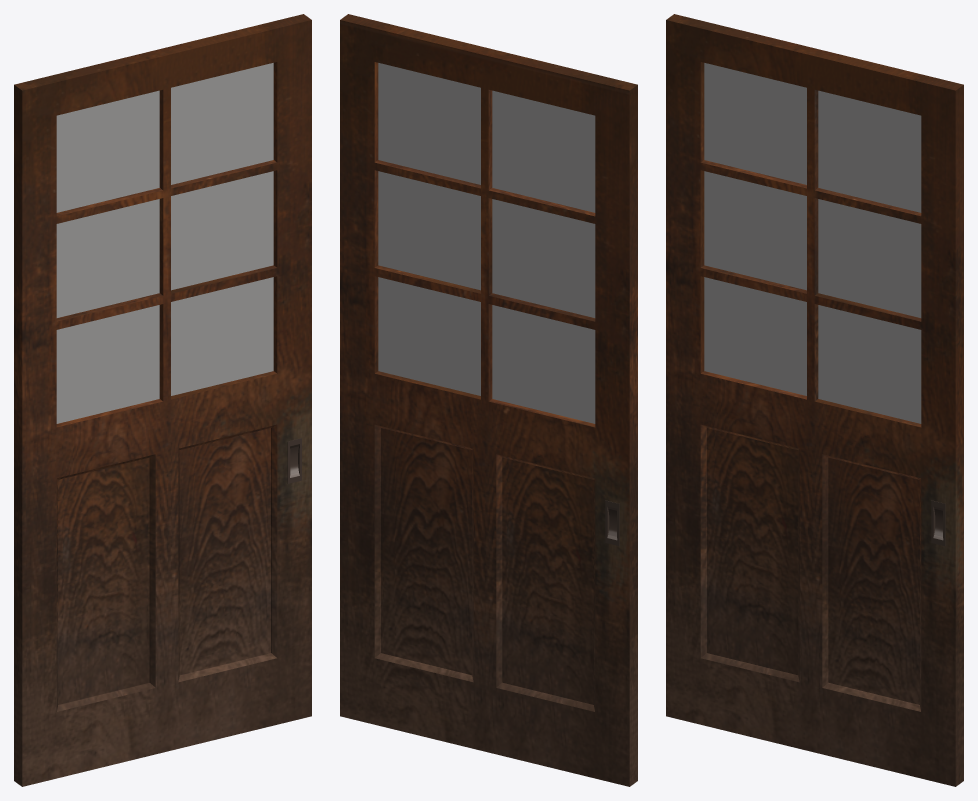
Rendered from door_03 (2).fbx.
The picture shows the model from 3 angles, left to right: view 1: azimuth 30°, elevation 25°; view 2: azimuth 150°, elevation 25°; view 3: azimuth 330°, elevation 25°; orthographic projection.
Visible parts, largest first — view 1: polySurface8, glass, totte02; view 2: polySurface8, glass, totte03; view 3: polySurface8, glass, totte02.
Boxes of the visible parts, x1,y1,x2,y2 form: polySurface8: (14,14,311,786); glass: (56,63,273,423); totte02: (287,438,301,483); polySurface8: (340,14,637,786); glass: (378,63,595,423); totte03: (605,500,619,546); polySurface8: (666,14,963,786); glass: (704,63,921,423); totte02: (931,500,945,546).
Bounding box in the file's own units: 82 × 188 × 4.3.
3 materials, 3 textured.
